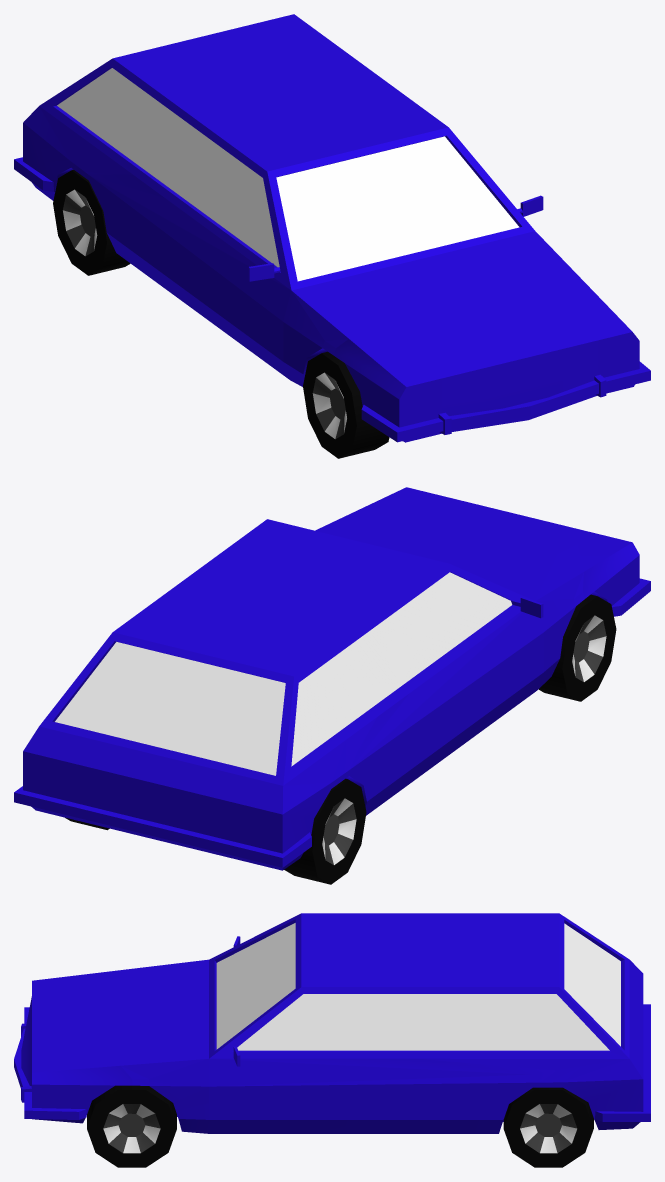
File: COCHE_04.FBX
3 views of the same model, one above another, from view 1: azimuth 30°, elevation 25°; view 2: azimuth 150°, elevation 25°; view 3: azimuth 270°, elevation 25° (orthographic). The views are drawn at different scales.
Parts seen in each view (by area): view 1: Object010, Object016, Object017; view 2: Object010, Object016, Object017; view 3: Object010, Object011, Object015.
Boxes of the visible parts, x1,y1,x2,y2 form: Object010: (14, 14, 650, 442); Object016: (303, 351, 389, 458); Object017: (53, 170, 130, 275); Object010: (14, 487, 650, 870); Object016: (538, 594, 616, 701); Object017: (284, 778, 366, 884); Object010: (14, 913, 650, 1133); Object011: (87, 1085, 176, 1167); Object015: (503, 1087, 593, 1167).
Bounding box in the file's own units: 39.63 × 25.46 × 89.38.
